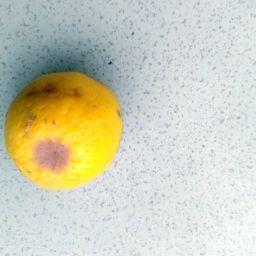Unripe: (2, 75, 123, 189)
